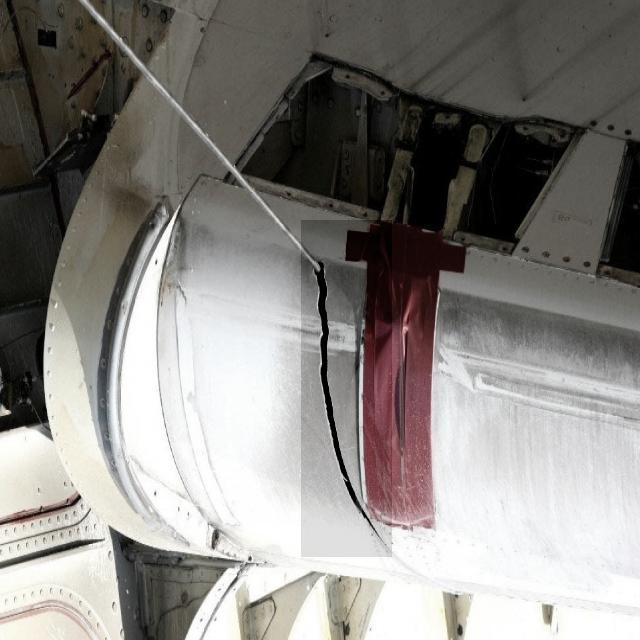crack: (302, 221, 393, 558)
